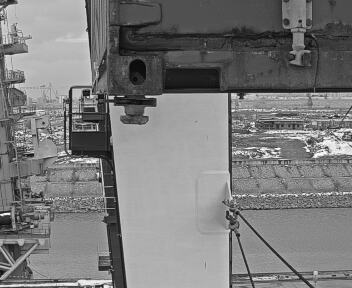twist_lock_1: (108, 93, 164, 133)
